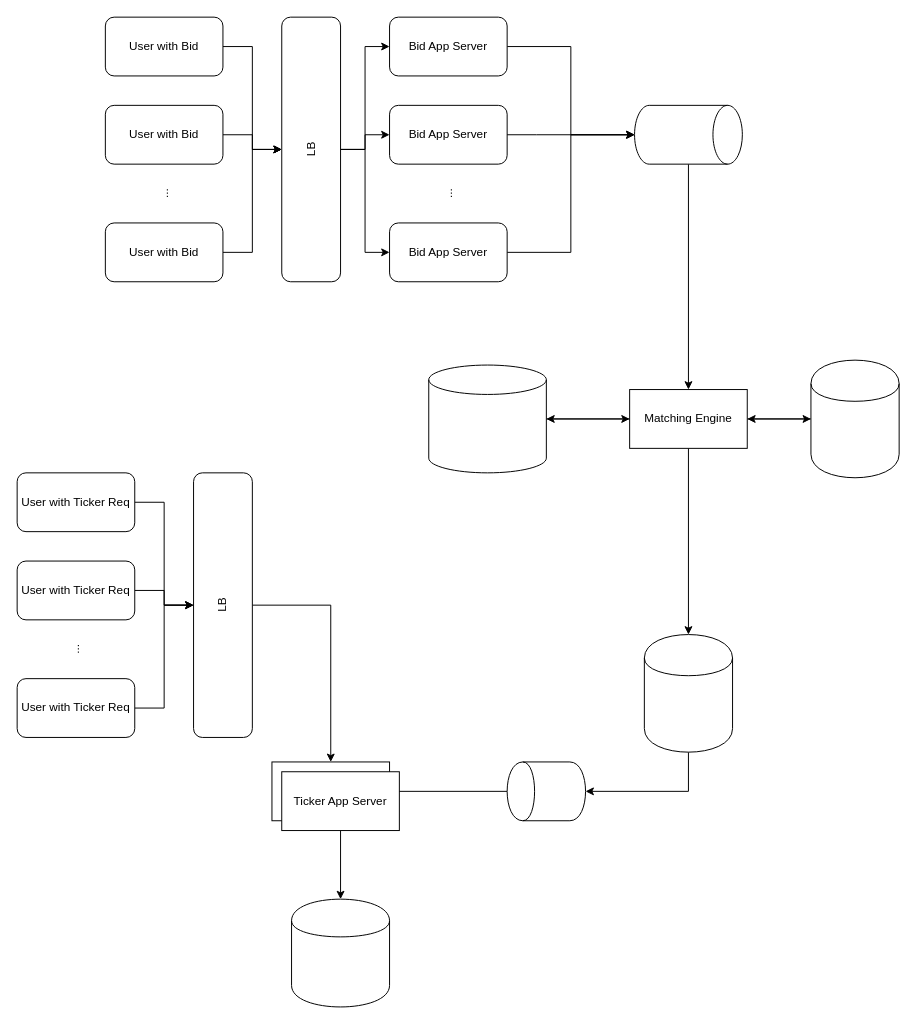
The diagram is 916 pixels wide and 1024 high, and some of its shapes have lost their labels. The shapes that lost their labels are listed below. From the top down, each one's centre as x and y in pixels, then its label:
pixel 688 134: Distributed MQ
pixel 487 418: Bid in-memory DB
pixel 854 418: User Wallet DB
pixel 688 693: Stock Transaction DB
pixel 546 791: Ticker MQ
pixel 340 952: Ticker prices DB
